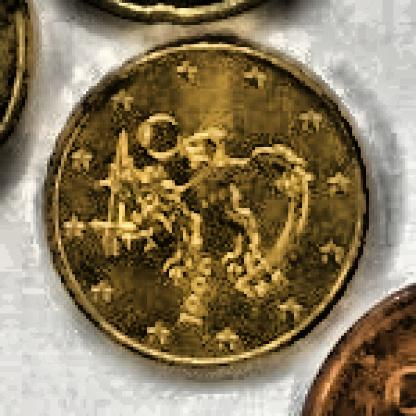coin: (46, 37, 374, 377)
